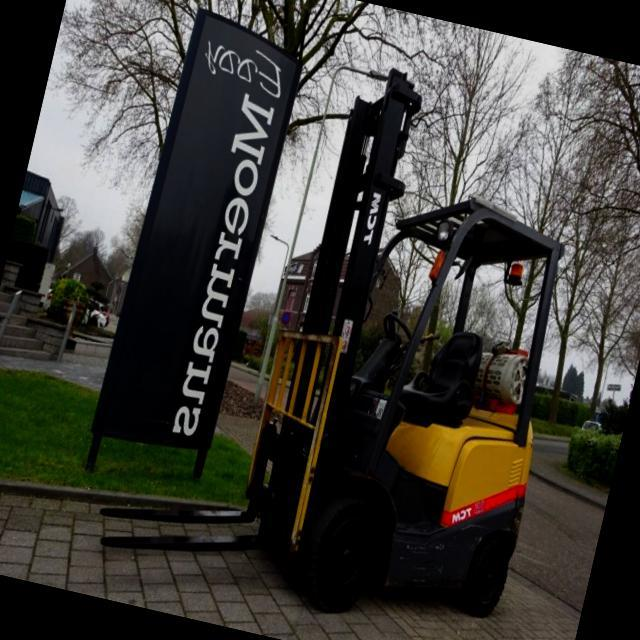forklift: (190, 23, 624, 640)
